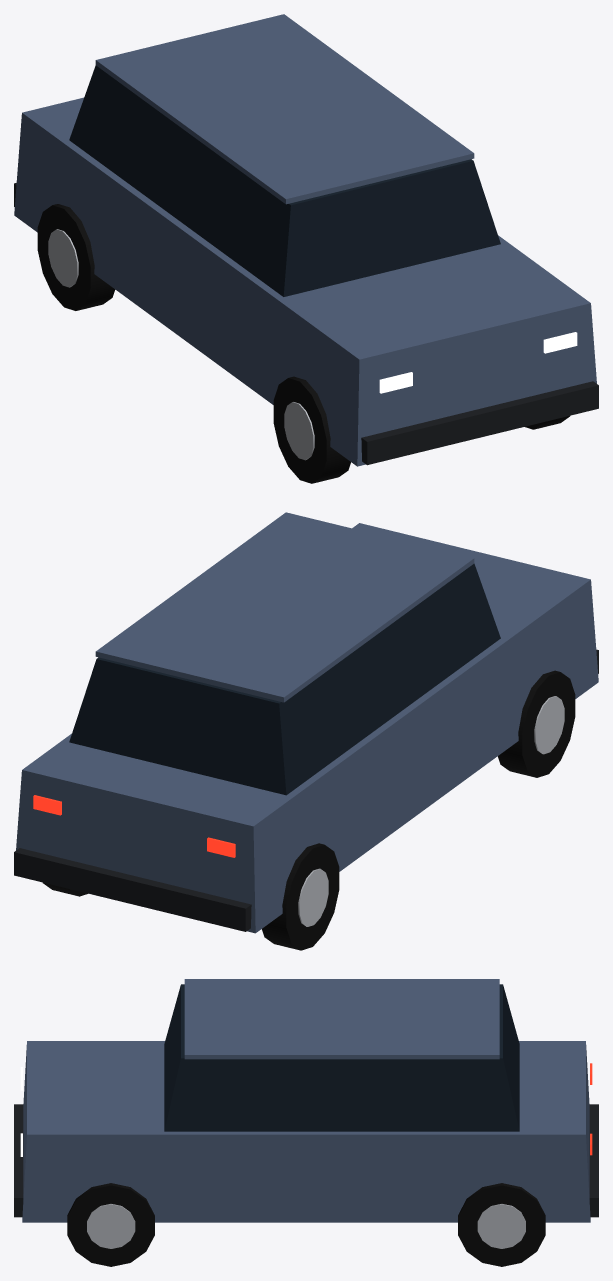
File: suv-2.glb
The picture shows the model from 3 angles, top to bottom: view 1: azimuth 30°, elevation 25°; view 2: azimuth 150°, elevation 25°; view 3: azimuth 270°, elevation 25°; orthographic projection. The views are drawn at different scales.
Size of the model in its own units: 2.03 by 1.86 by 4.94.
